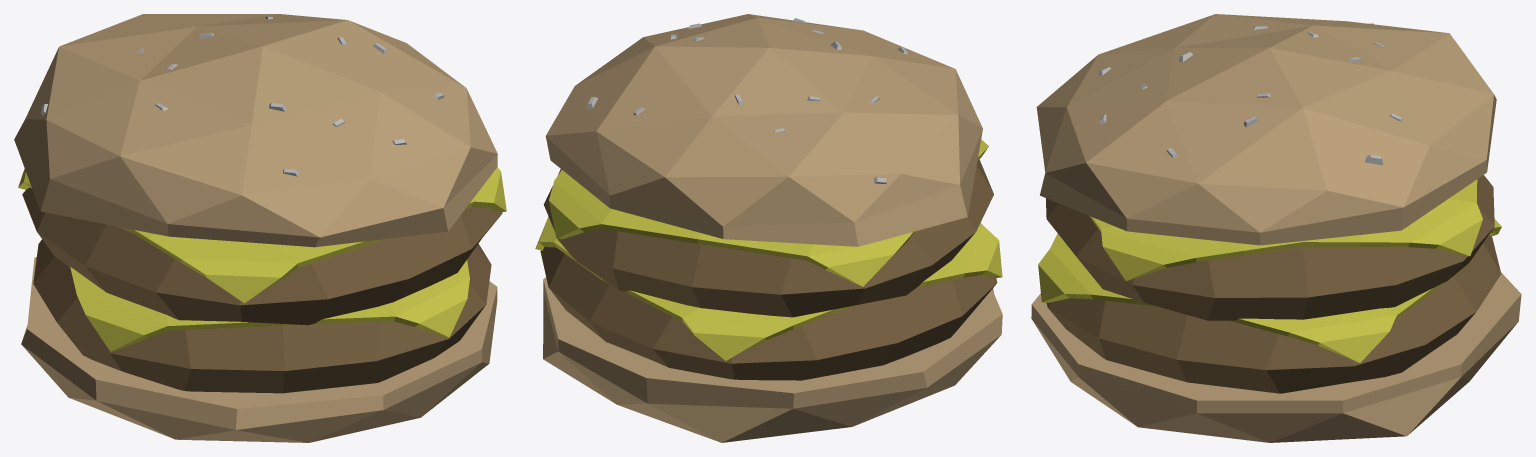
File: DoubleCheeseburger.glb
3 renders of one model, left to right at view 1: azimuth 30°, elevation 25°; view 2: azimuth 150°, elevation 25°; view 3: azimuth 270°, elevation 25°, orthographic. The views are drawn at different scales.
Parts seen in each view (by area): view 1: DoubleCheeseburger; view 2: DoubleCheeseburger; view 3: DoubleCheeseburger.
Part boxes in pixels (<box>): DoubleCheeseburger: <box>14,14,506,442</box>; DoubleCheeseburger: <box>535,14,1002,442</box>; DoubleCheeseburger: <box>1031,14,1521,442</box>.
Bounding box in the file's own units: 1.49 × 1.2 × 1.54.
